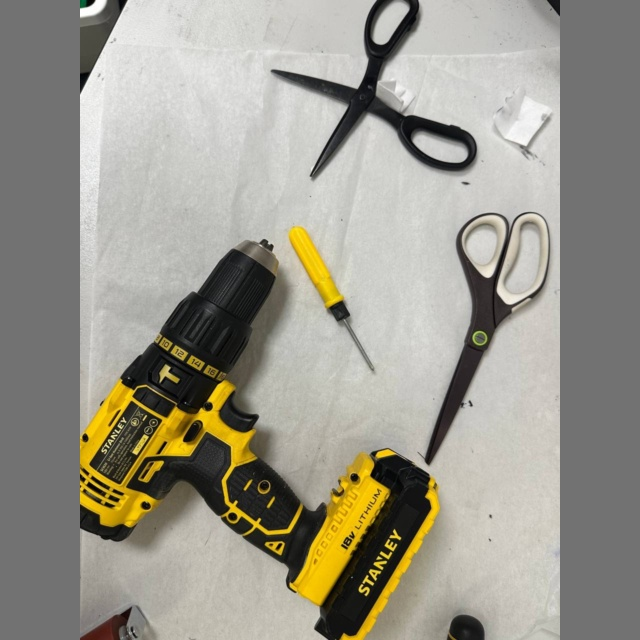drill: (80, 240, 440, 640)
scissor: (272, 0, 476, 177), (425, 212, 549, 463)
screwdriver: (289, 226, 374, 371)
